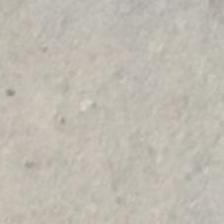Non_Crack: (27, 0, 217, 186)
